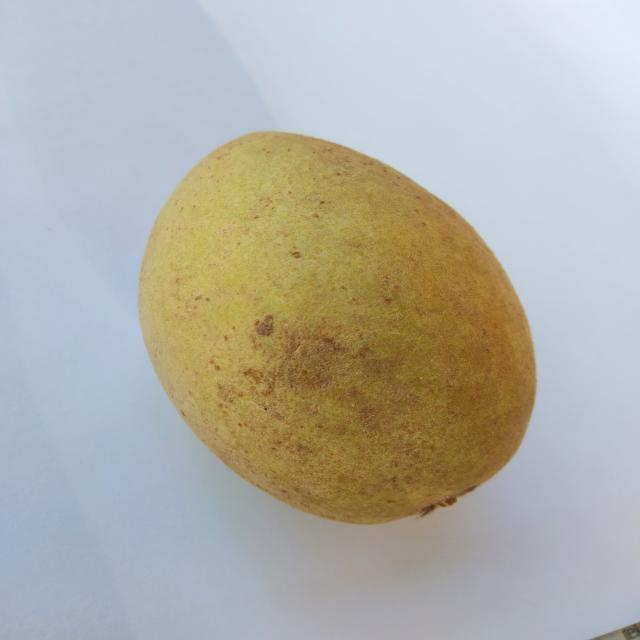mentah: (136, 127, 539, 530)
